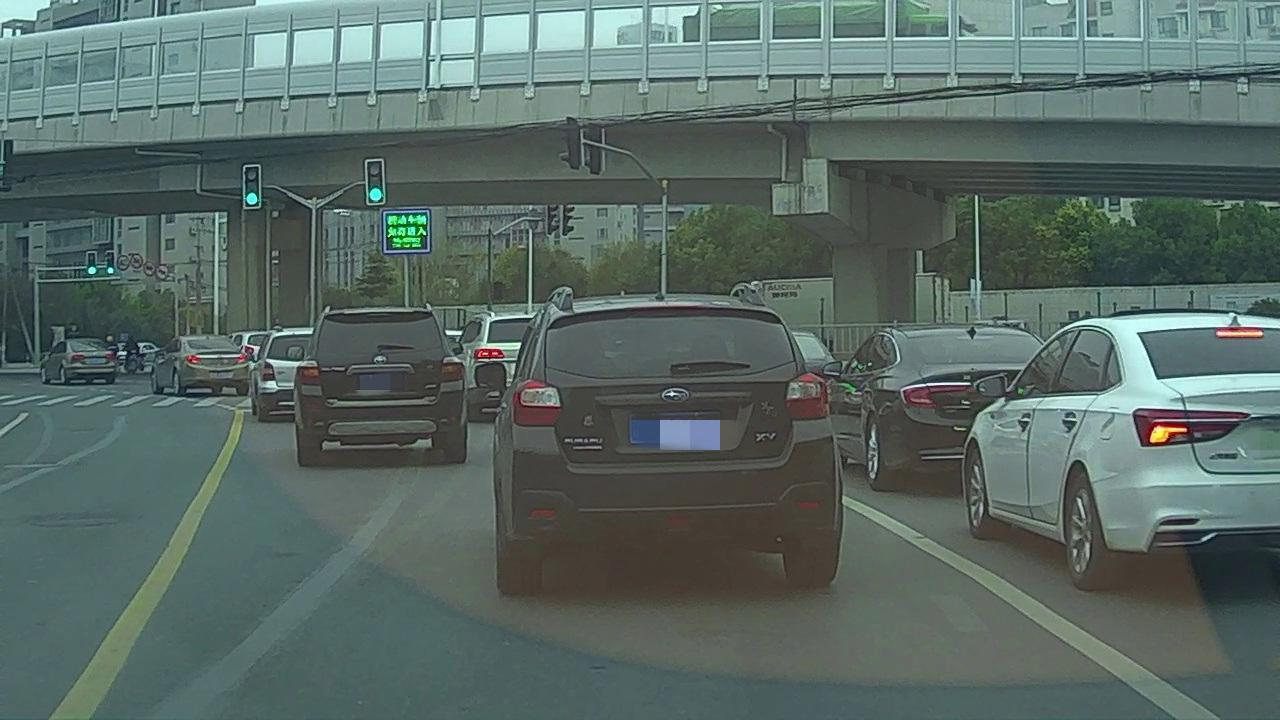traffic_light: (366, 162, 385, 204), (243, 169, 261, 208), (87, 254, 96, 274), (107, 253, 114, 275)
